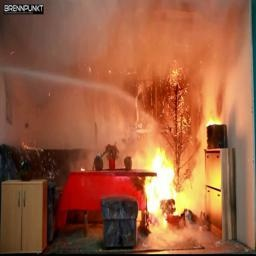fire: (139, 147, 193, 210)
